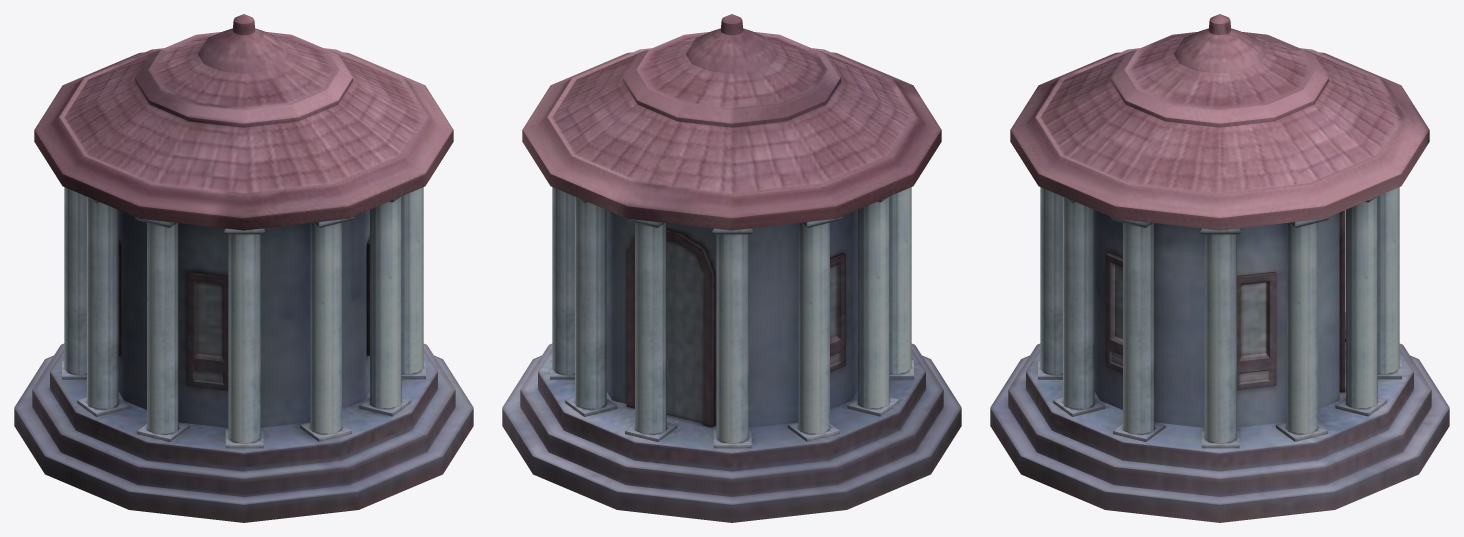
Rendered from Temple_roman2.glb.
3 views of the same model, side by side, from view 1: azimuth 30°, elevation 25°; view 2: azimuth 150°, elevation 25°; view 3: azimuth 270°, elevation 25° (orthographic).
Visible parts, largest first — view 1: roman_temple_01; view 2: roman_temple_01; view 3: roman_temple_01.
Boxes of the visible parts, bbox=[...] form: roman_temple_01: bbox=[14, 14, 473, 522]; roman_temple_01: bbox=[502, 14, 961, 522]; roman_temple_01: bbox=[990, 14, 1449, 522].
Size of the model in its own units: 3.56 by 3.52 by 3.56.
Materials: 1 (1 with a texture image).
